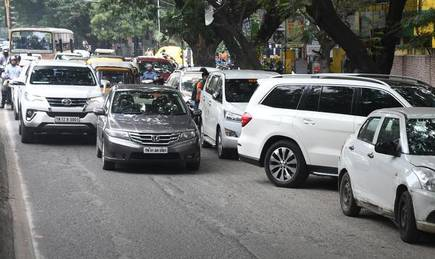car: (341, 107, 435, 232), (101, 84, 202, 175), (201, 70, 283, 162), (19, 62, 104, 145), (90, 54, 141, 114)
